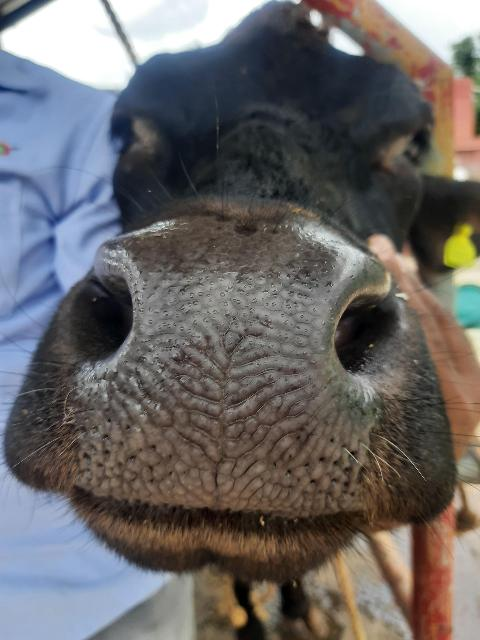Muzzle: (126, 236, 332, 508)
